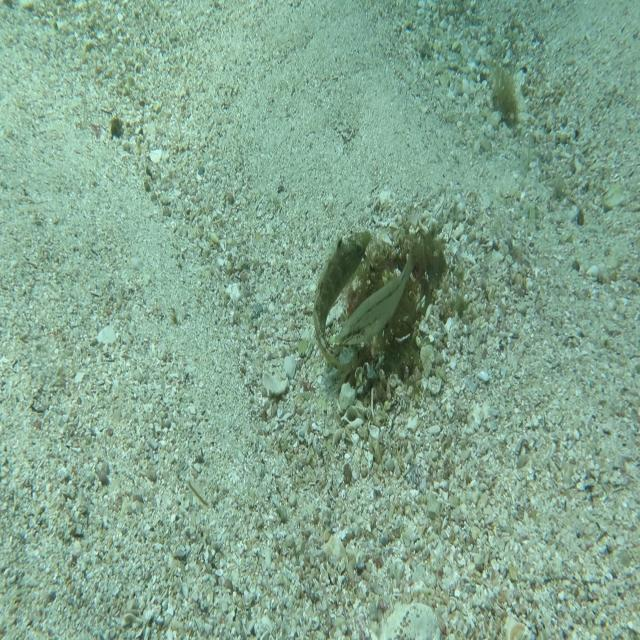DAN_CIRC: (311, 226, 373, 379)
female: (336, 247, 418, 349)
nest: (327, 199, 457, 417)
